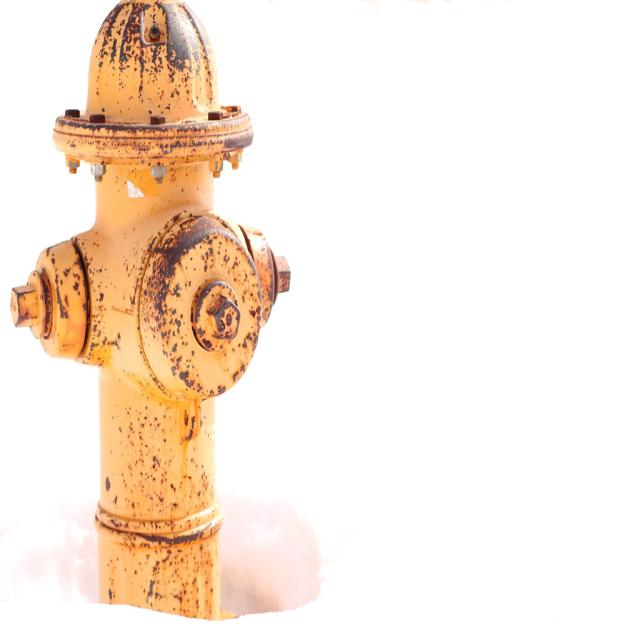fire_hydrant: (11, 0, 291, 624)
